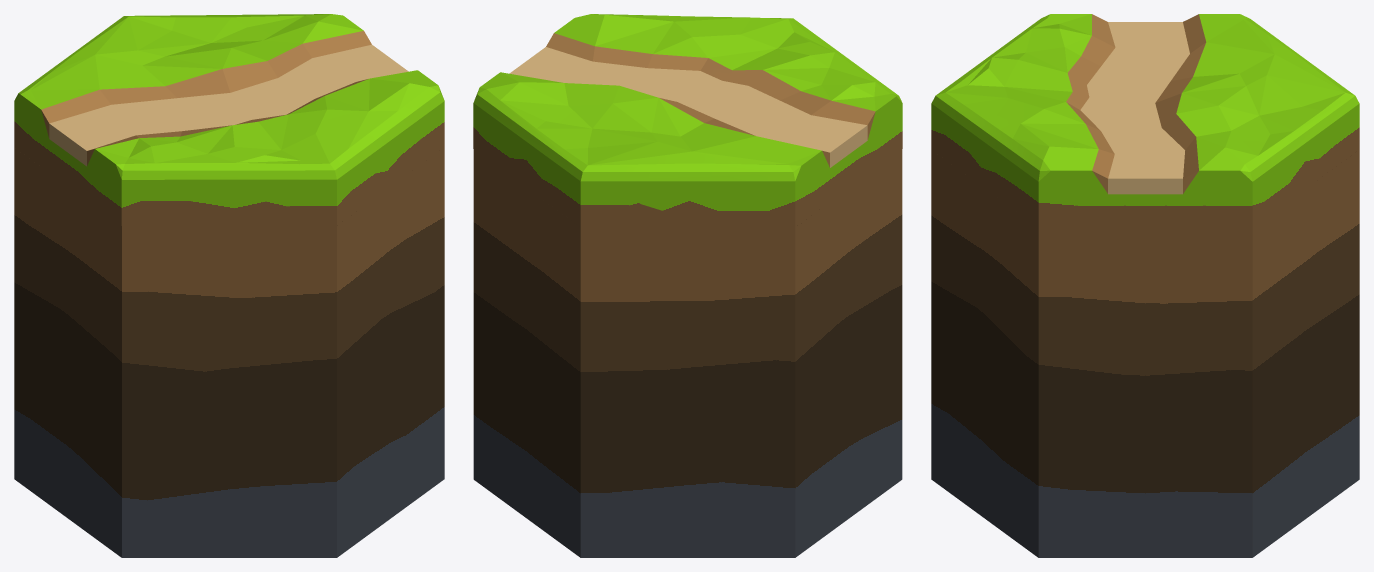
The model's file is HexTilePath_Straight_v4.glb.
3 views of the same model, side by side, from view 1: azimuth 30°, elevation 25°; view 2: azimuth 150°, elevation 25°; view 3: azimuth 270°, elevation 25° (orthographic).
Visible parts, largest first — view 1: SM_Tile_Hex_Path_01.003; view 2: SM_Tile_Hex_Path_01.003; view 3: SM_Tile_Hex_Path_01.003.
Part boxes in pixels (x1=…): SM_Tile_Hex_Path_01.003: x1=14, y1=14, x2=444, y2=557; SM_Tile_Hex_Path_01.003: x1=473, y1=14, x2=902, y2=557; SM_Tile_Hex_Path_01.003: x1=931, y1=14, x2=1359, y2=557.
Size of the model in its own units: 1.73 by 2.04 by 2.
Materials: 1 (1 with a texture image).
